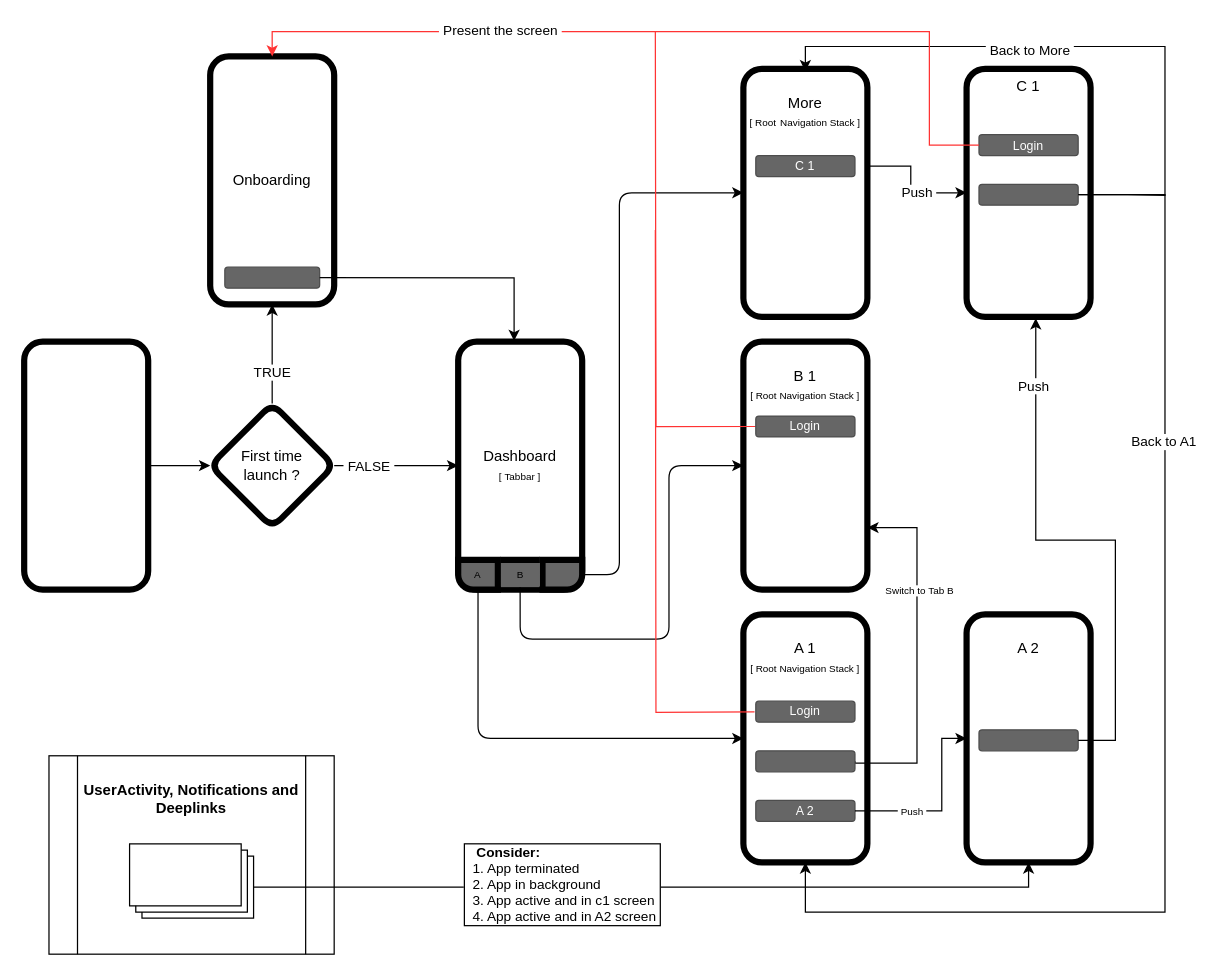
The diagram is 1218 pixels wide and 976 high, and some of its shapes have lost their labels. The shapes that lost their labels are listed below. From the top down, each one's centre as x and y in pixels, then its label:
point 1028,194: Back to Root
point 272,277: Continue / Skip CTA
point 85,465: Splash Screen
point 562,574: More
point 1028,740: C1
point 805,761: B 1
point 191,880: Go to A2
